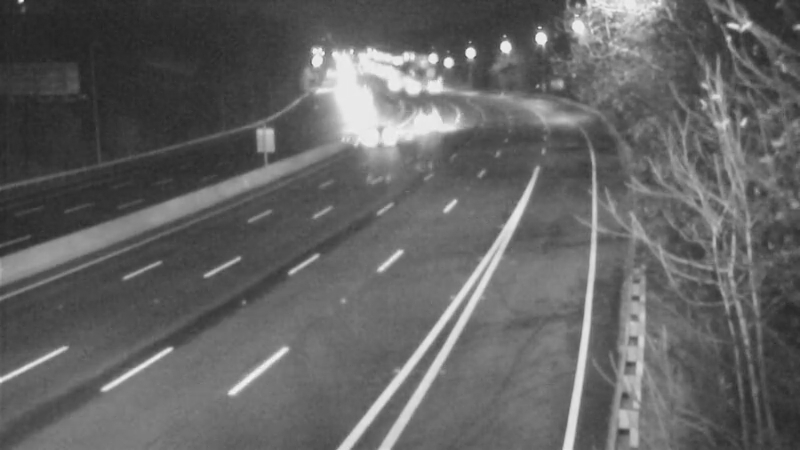vehicle: (384, 62, 434, 112), (404, 60, 454, 110), (391, 110, 441, 160), (357, 108, 407, 158)
